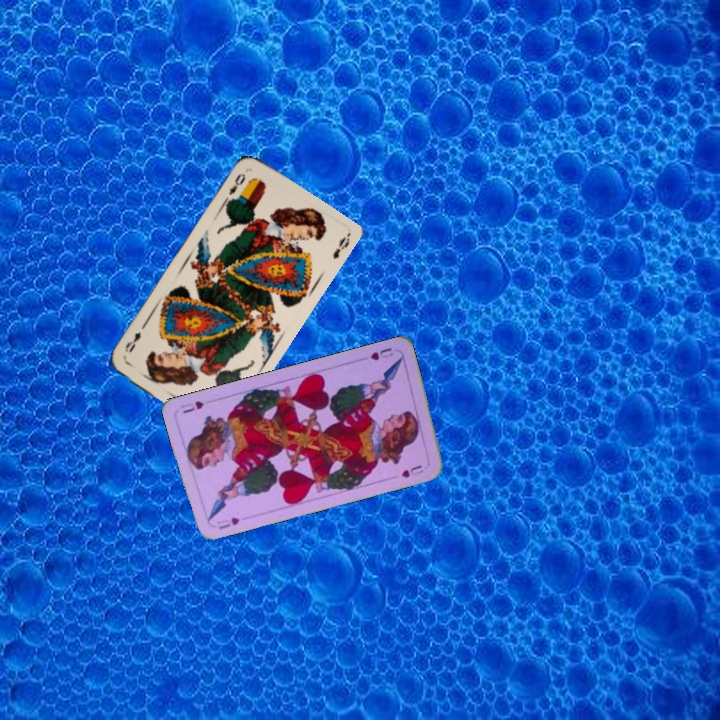EO: (224, 169, 248, 198)
HU: (213, 513, 242, 532), (367, 344, 395, 363)
